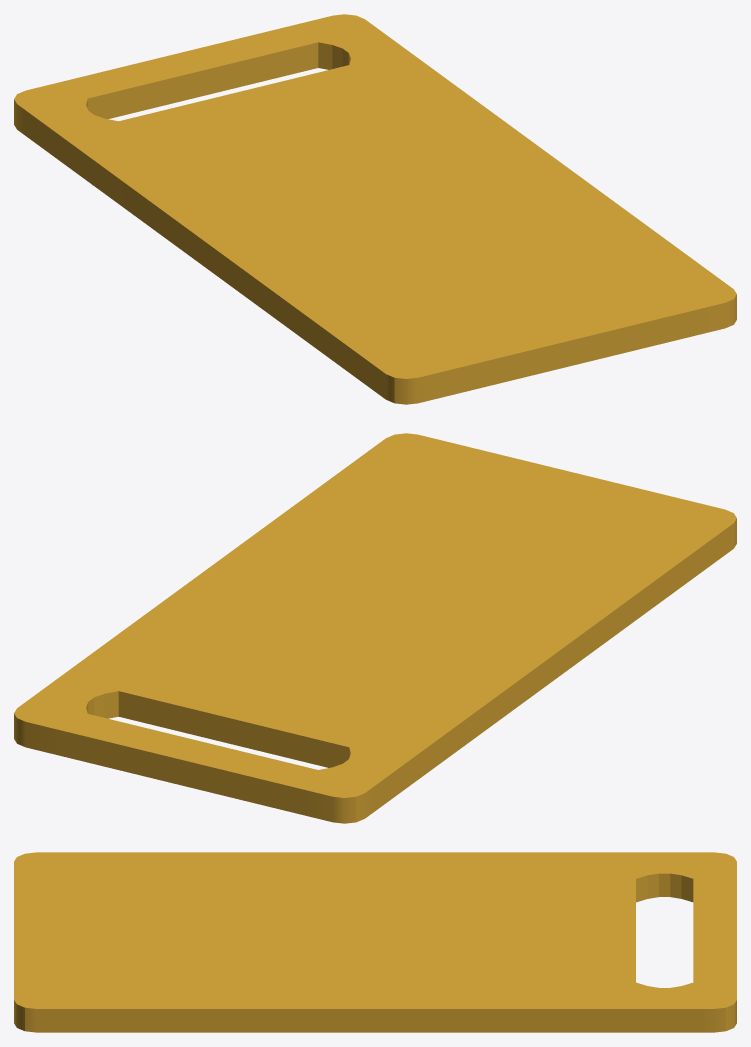
File: CuttingBoard.fbx
3 renders of one model, top to bottom at view 1: azimuth 30°, elevation 25°; view 2: azimuth 150°, elevation 25°; view 3: azimuth 270°, elevation 25°, orthographic. The views are drawn at different scales.
Visible parts, largest first — view 1: CuttingBoard; view 2: CuttingBoard; view 3: CuttingBoard.
Boxes of the visible parts, x1,y1,x2,y2 form: CuttingBoard: [14, 14, 736, 404]; CuttingBoard: [14, 433, 736, 823]; CuttingBoard: [14, 852, 736, 1032].
Bounding box in the file's own units: 37.59 × 2.65 × 73.44.
